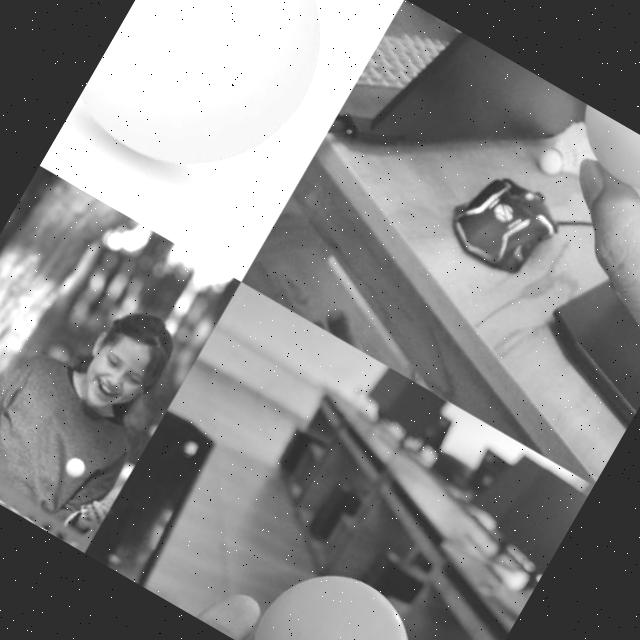ping-pong-ball: (67, 0, 373, 216), (244, 547, 440, 640), (557, 102, 640, 219), (64, 454, 90, 481)
